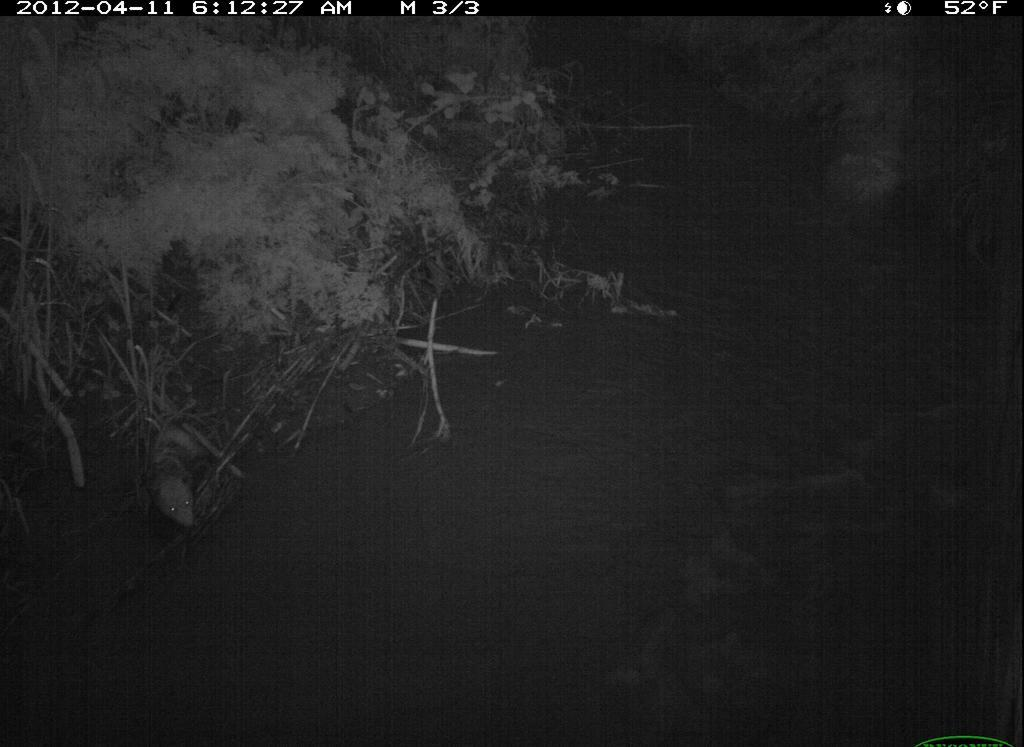opossum: (121, 386, 244, 548)
